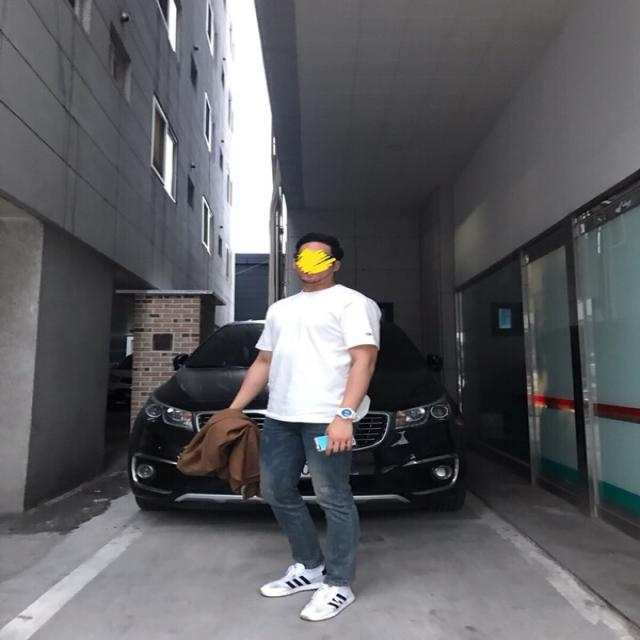denimpants: (260, 418, 364, 587)
shortsleeve: (261, 288, 383, 425)
